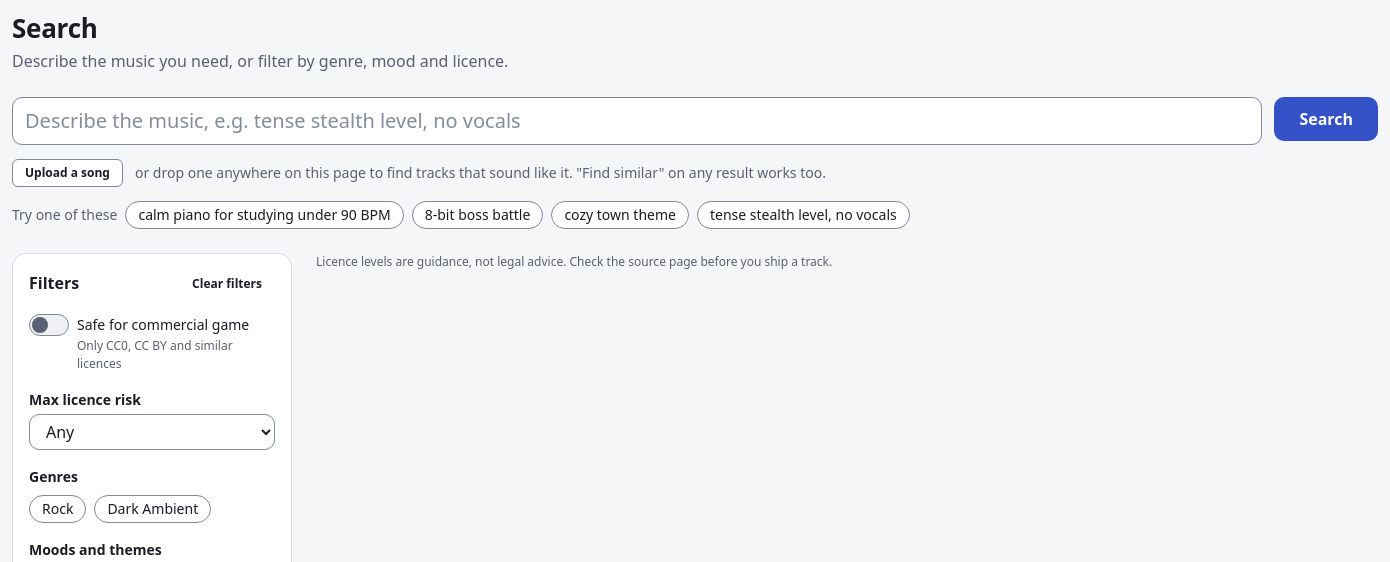
Test case: Search page: query › asks for input instead of sending an empty search
This screenshot has width=1390, height=562.
Click the button "Search" at point(1326, 118), box [1274,96,1378,140]
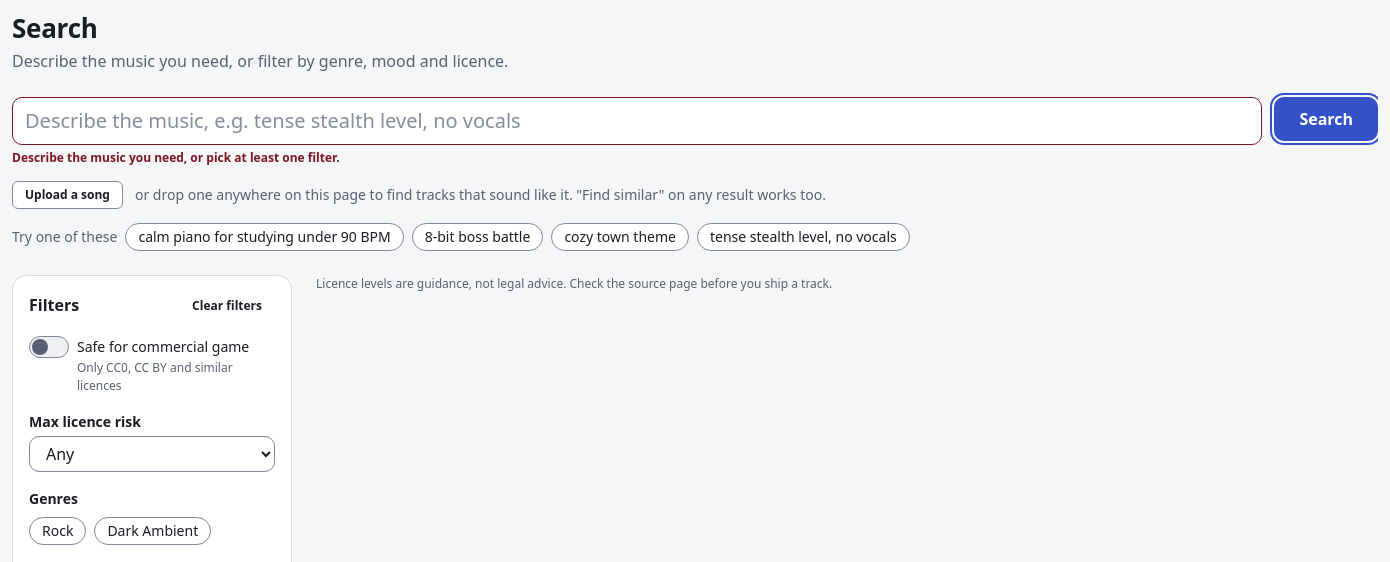
Expected: the text "Describe the music you need, or pick at least one filter." is shown, [12,148,340,166]
